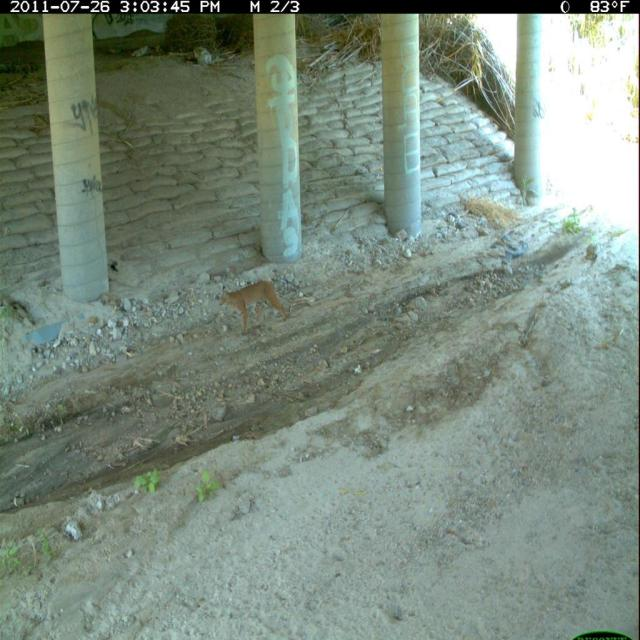bobcat: (221, 278, 293, 339)
